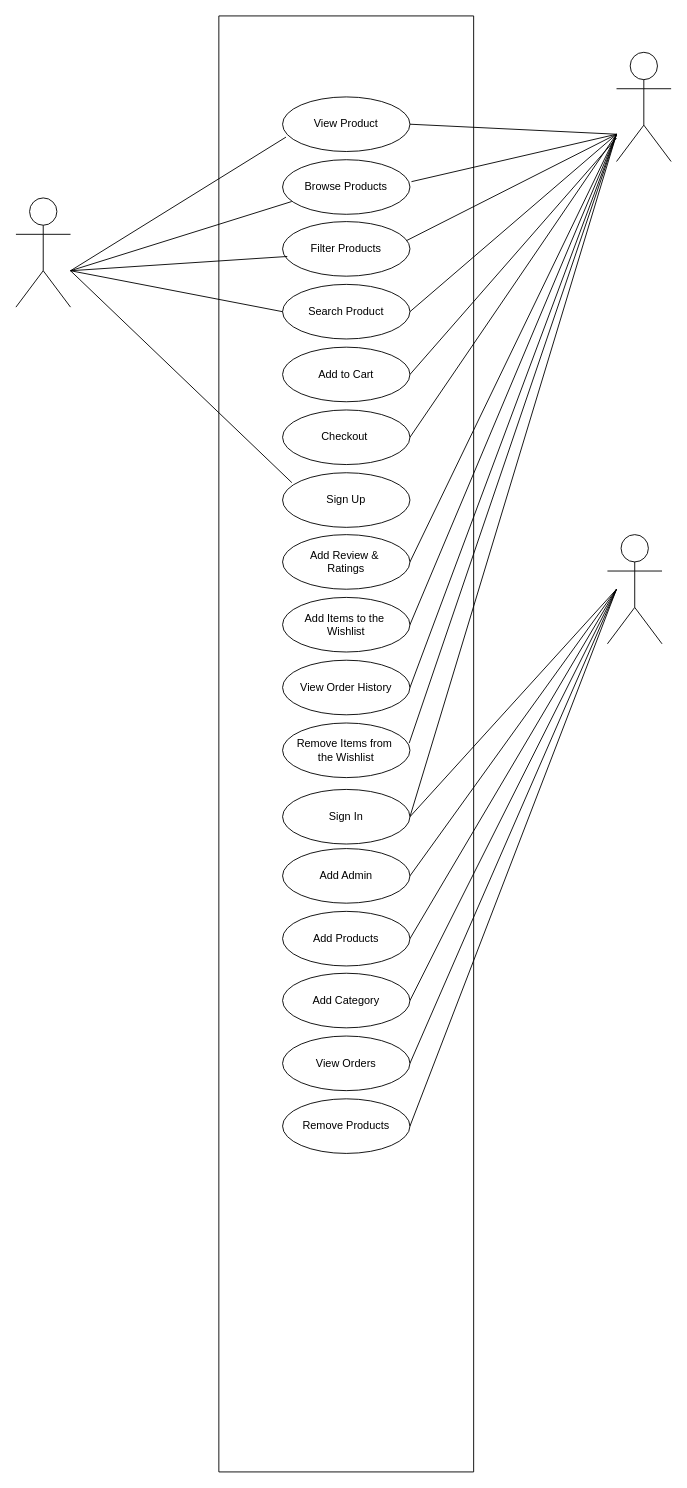
The diagram is 687 pixels wide and 1488 high, and some of its shapes have lost their labels. The shapes that lost their labels are listed below. From the top down, each one's centre as x and y in pixels, then its label:
At pixel 643 106: "Registered User".
At pixel 43 252: "Guest User".
At pixel 634 589: "Admin".
